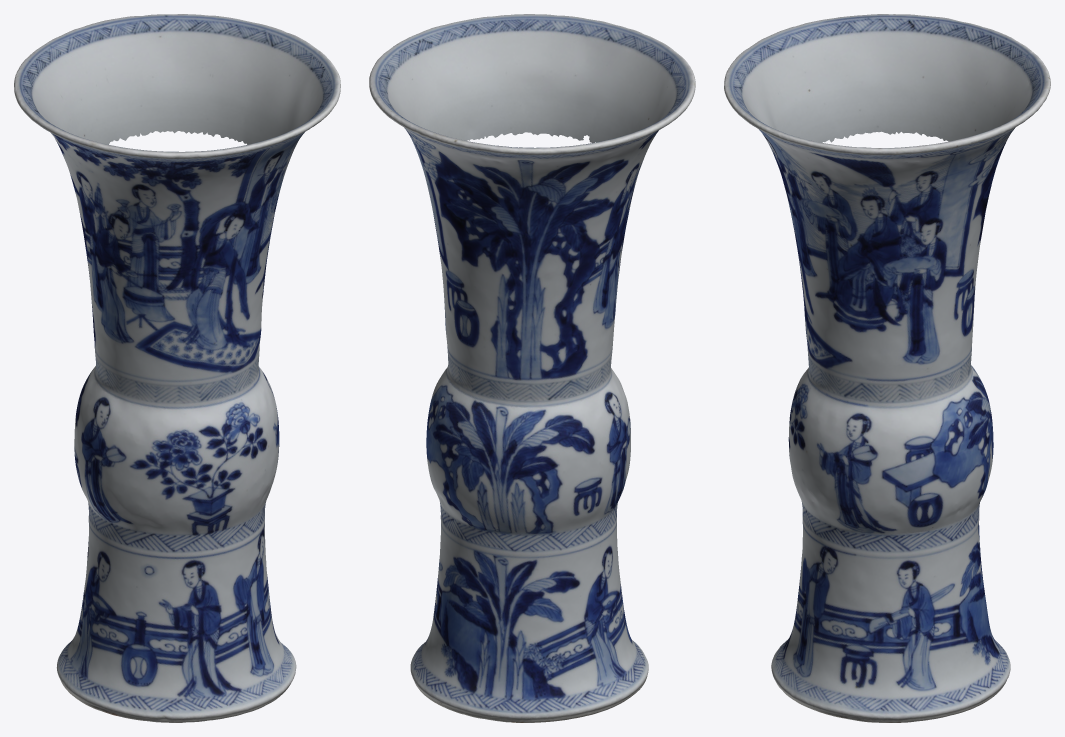
3 renders of one model, left to right at view 1: azimuth 30°, elevation 25°; view 2: azimuth 150°, elevation 25°; view 3: azimuth 270°, elevation 25°, orthographic.
Visible parts, largest first — view 1: Object_4, Object_5; view 2: Object_4, Object_5; view 3: Object_4, Object_5.
Part boxes in pixels (<box>): Object_4: <box>14,14,340,722</box>; Object_5: <box>15,15,340,722</box>; Object_4: <box>369,14,695,722</box>; Object_5: <box>369,14,695,722</box>; Object_4: <box>724,14,1050,722</box>; Object_5: <box>727,14,1050,722</box>.
Size of the model in its own units: 0.1396 by 0.2809 by 0.1399.
1 material, 1 textured.
